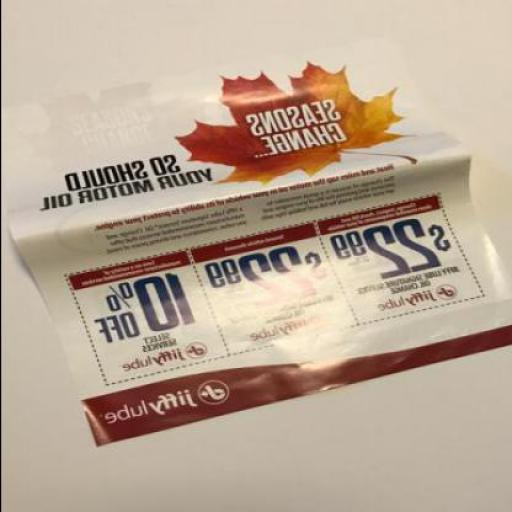paper: (1, 42, 511, 448)
